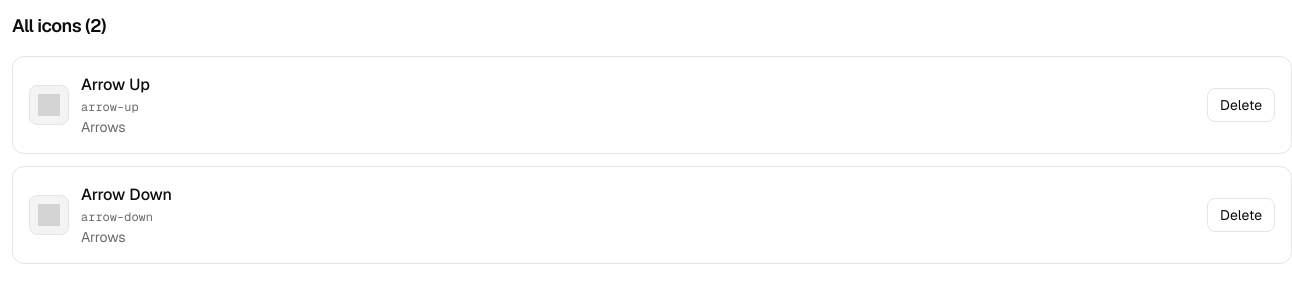
Test: <IconsAdmin /> › asks for confirmation before deleting, then deletes
Expected: the text "Arrow Up" is shown, [81,73,150,97]
Click the button with aria-label "Delete Arrow Up" at x=1241, y=105, box [1207,88,1275,122]
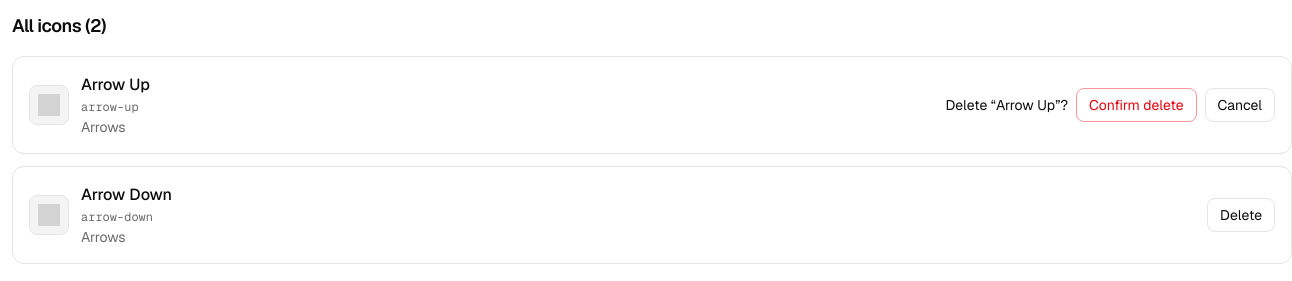
Click the button "Confirm delete" at x=1136, y=105, box [1076,88,1197,122]
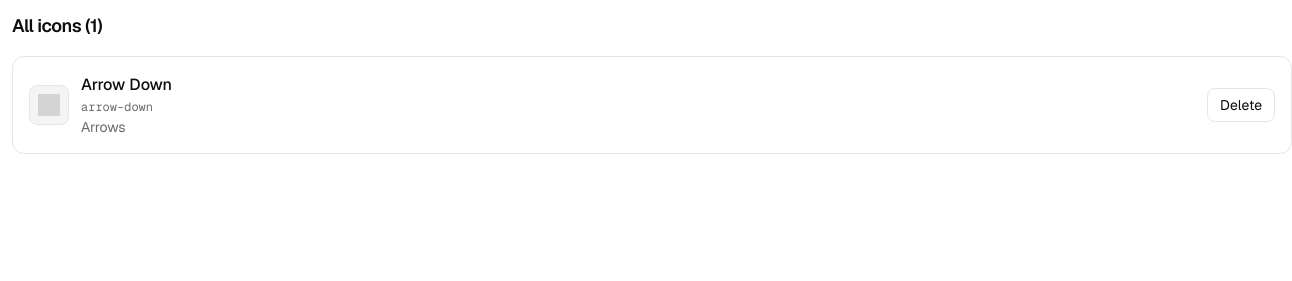
Expected: the text "Arrow Down" is shown, [81,73,172,97]
Expected: the text "Arrow Up" is gone
